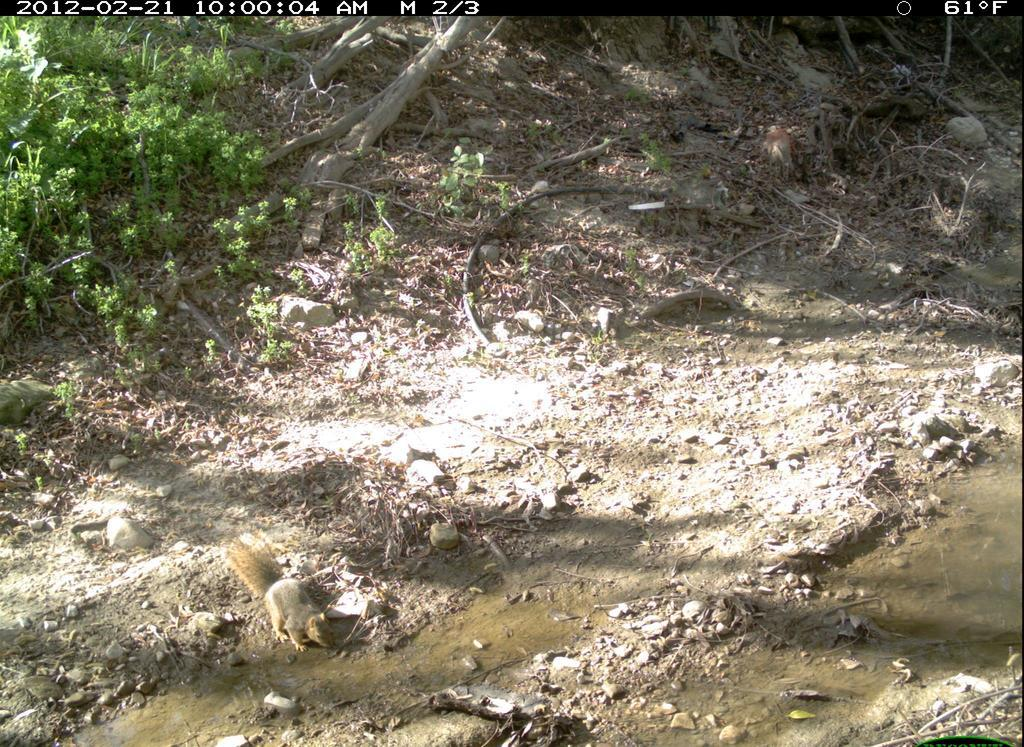squirrel: (219, 523, 344, 661)
